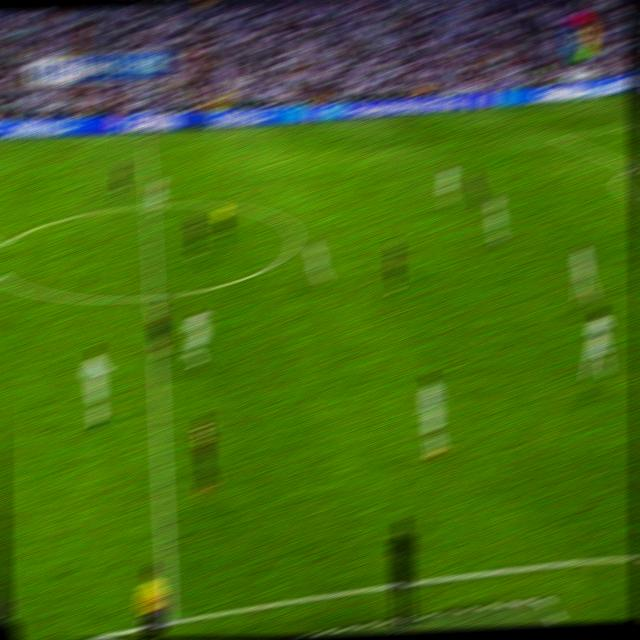bigarea_top_inner: (622, 158, 637, 173)
halfcircle_bottom: (143, 284, 162, 306)
halfcircle_top: (143, 284, 162, 306)
midline_bottom_intersection: (157, 604, 178, 631)
midline_top_intersection: (138, 133, 152, 142)
